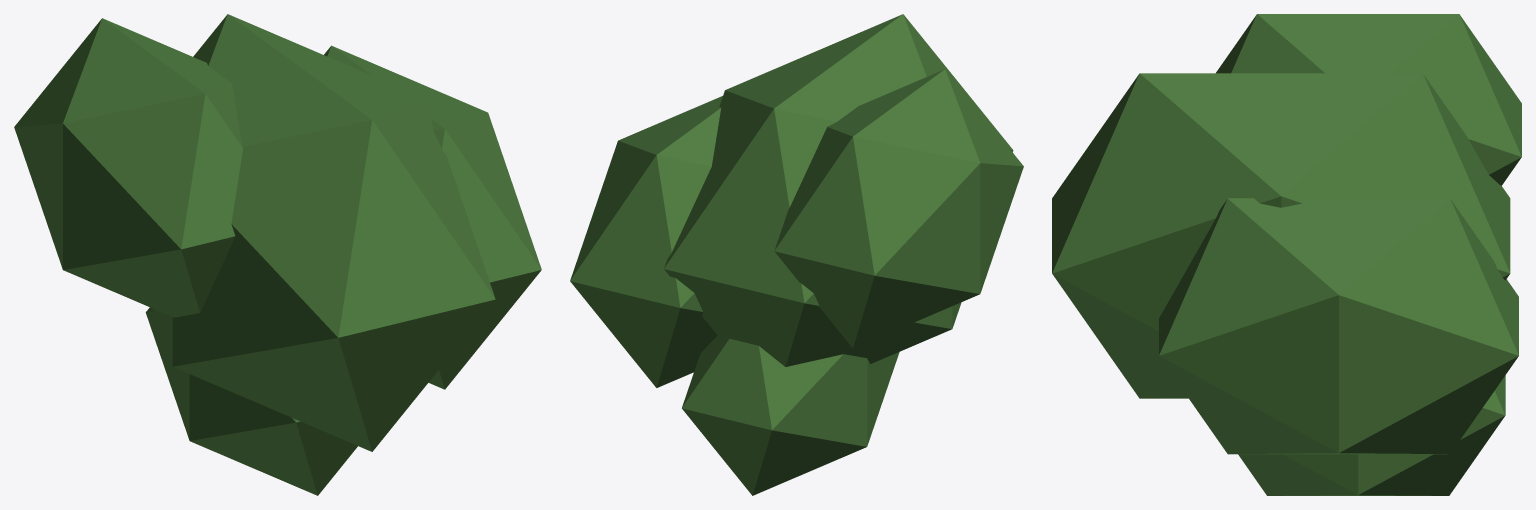
The model's file is bush.glb.
The picture shows the model from 3 angles, left to right: view 1: azimuth 30°, elevation 25°; view 2: azimuth 150°, elevation 25°; view 3: azimuth 270°, elevation 25°; orthographic projection. The views are drawn at different scales.
Bounding box in the file's own units: 1 × 1 × 1.
